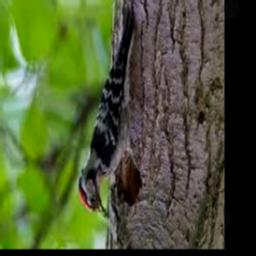Woodpecker: (78, 3, 141, 220)
